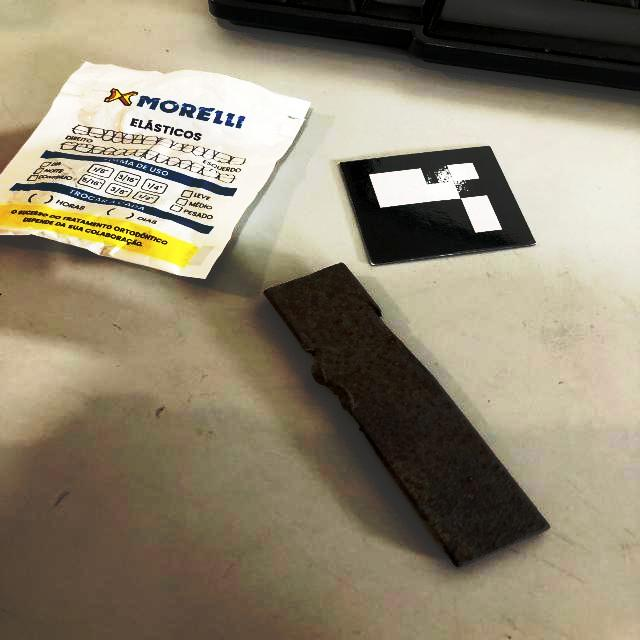Corrosion: (263, 263, 550, 567)
